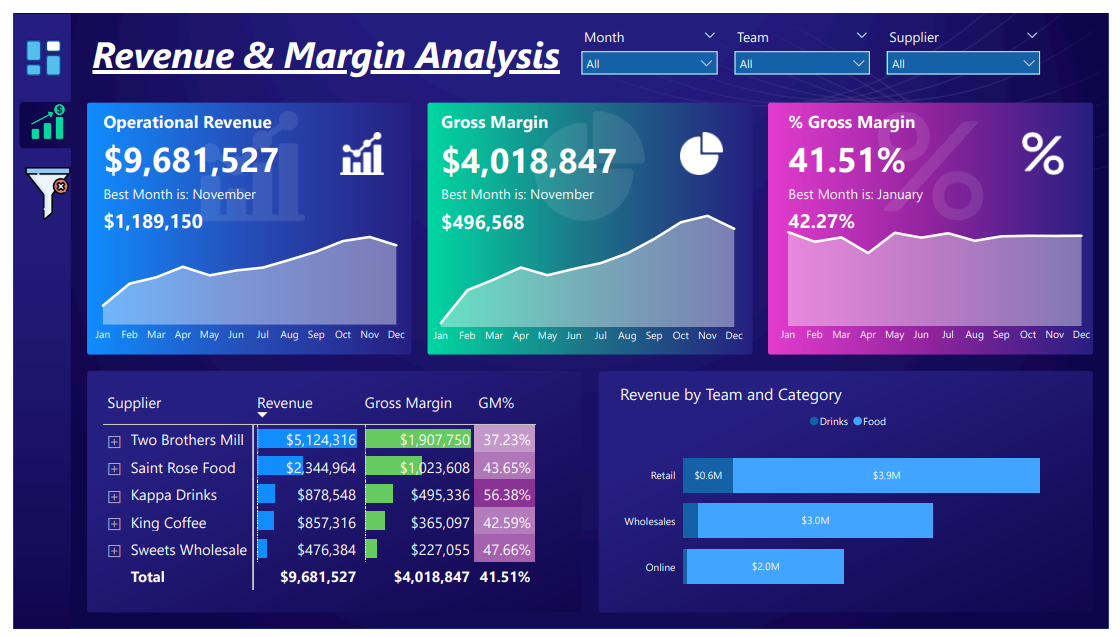

Layout of this report page (visuals, bound fields, positions):
{"tool":"powerbi","page":{"name":"Revenuer & Margin Analytics","canvas":[1280,720],"ordinal":0},"visuals":[{"type":"multiRowCard","title":"Operational Revenue","fields":{"Values":["Key Measure.Revenue"]},"box":[100,111.4,274.3,108.6],"z":0},{"type":"multiRowCard","title":"Operational Revenue","fields":{"Values":["Key Measure.Revenue","Key Measure.Best Month"]},"box":[100,194.3,274.3,91.4],"z":1000},{"type":"areaChart","fields":{"Category":["dCalender.Mont Name"],"Y":["Key Measure.Revenue"]},"box":[86.7,220,378.3,173.3],"z":2000},{"type":"multiRowCard","title":"Gross Margin","fields":{"Values":["Key Measure.Gross Margin"]},"box":[494.9,112.1,274.3,108.6],"z":3000},{"type":"multiRowCard","title":"Operational Revenue","fields":{"Values":["Key Measure.Best Month","Key Measure.Gross Margin"]},"box":[494.9,195,274.3,91.4],"z":4000},{"type":"areaChart","fields":{"Category":["dCalender.Mont Name"],"Y":["Key Measure.Gross Margin"]},"box":[481.6,220.7,378.3,173.3],"z":5000},{"type":"multiRowCard","title":"% Gross Margin","fields":{"Values":["Key Measure.% Gross Margin"]},"box":[900.7,110.8,274.3,108.6],"z":6000},{"type":"multiRowCard","title":"Operational Revenue","fields":{"Values":["Key Measure.Best Month","Key Measure.% Gross Margin"]},"box":[900.7,193.6,274.3,91.4],"z":7000},{"type":"areaChart","fields":{"Category":["dCalender.Mont Name"],"Y":["Key Measure.% Gross Margin"]},"box":[887.5,241.2,378.8,151.2],"z":8000},{"type":"pivotTable","fields":{"Rows":["dSupplier.Supplier","dProduct.Group"],"Values":["Key Measure.Revenue","Key Measure.Gross Margin","Key Measure.% Gross Margin"]},"box":[100,431.4,540,262.9],"z":8001},{"type":"barChart","fields":{"Category":["dSalesPerson.Team"],"Series":["dProduct.Category"],"Y":["Key Measure.Revenue"]},"box":[704.3,431.4,547.1,262.9],"z":8002},{"type":"textbox","box":[86.6,11.5,567,83.7],"z":8003},{"type":"slicer","fields":{"Values":["dCalender.Date.Variation.Date Hierarchy.Month"]},"box":[654.3,11.4,178.6,65.7],"z":8004},{"type":"slicer","fields":{"Values":["dSalesPerson.Team"]},"box":[832.9,11.4,178.6,65.7],"z":8005},{"type":"slicer","fields":{"Values":["dSupplier.Supplier"]},"box":[1011.4,11.4,198.6,65.7],"z":8006},{"type":"image","box":[10,95.7,60,60],"z":8007},{"type":"image","box":[10,27.1,50,50],"z":8008},{"type":"image","box":[10,180,60,60],"z":8009}]}

Visuals, with their boxes on the page's 1280x720 design canvas (x1, y1, x2, y2). These are canvas units, not pixel positions in the 1120x637 screenshot, which may show the page scaled, cropped or inside an application window:
"Operational Revenue" multiRowCard: 100 111 374 220
"Operational Revenue" multiRowCard: 100 194 374 286
areaChart - dCalender.Mont Name x Key Measure.Revenue: 87 220 465 393
"Gross Margin" multiRowCard: 495 112 769 221
"Operational Revenue" multiRowCard: 495 195 769 286
areaChart - dCalender.Mont Name x Key Measure.Gross Margin: 482 221 860 394
"% Gross Margin" multiRowCard: 901 111 1175 219
"Operational Revenue" multiRowCard: 901 194 1175 285
areaChart - dCalender.Mont Name x Key Measure.% Gross Margin: 888 241 1266 392
pivotTable - dSupplier.Supplier x dProduct.Group: 100 431 640 694
barChart - dSalesPerson.Team x dProduct.Category: 704 431 1251 694
textbox: 87 12 654 95
slicer - dCalender.Date.Variation.Date Hierarchy.Month: 654 11 833 77
slicer - dSalesPerson.Team: 833 11 1012 77
slicer - dSupplier.Supplier: 1011 11 1210 77
image: 10 96 70 156
image: 10 27 60 77
image: 10 180 70 240
